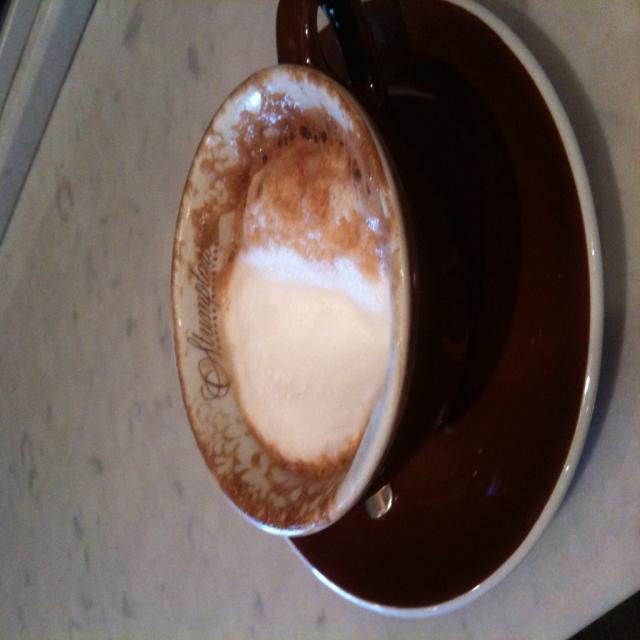Coffee: (220, 122, 396, 462)
